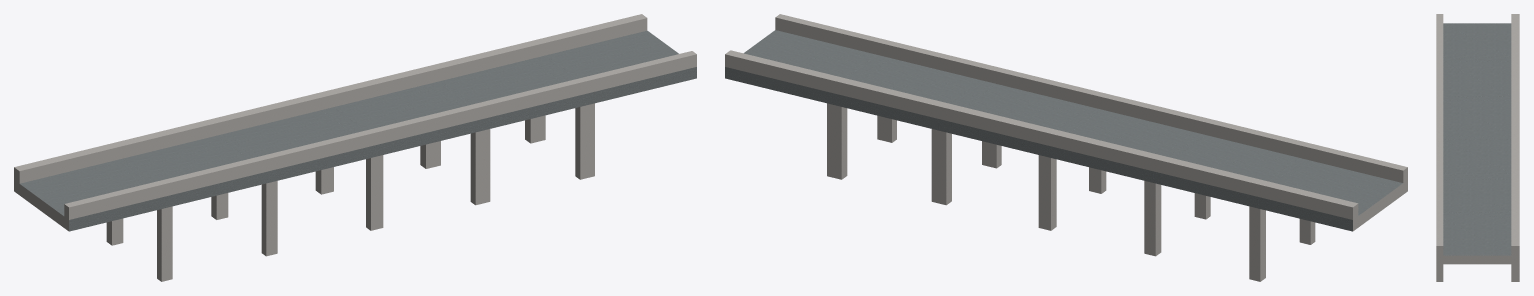
Rendered from watari6to7.fbx.
The picture shows the model from 3 angles, left to right: view 1: azimuth 30°, elevation 25°; view 2: azimuth 150°, elevation 25°; view 3: azimuth 270°, elevation 25°; orthographic projection. The views are drawn at different scales.
Parts seen in each view (by area): view 1: Cube; view 2: Cube; view 3: Cube.
Boxes of the visible parts, x1,y1,x2,y2 form: Cube: (14,14,696,281); Cube: (725,14,1407,281); Cube: (1436,14,1519,281).
Size of the model in its own units: 2176 by 321 by 330.
